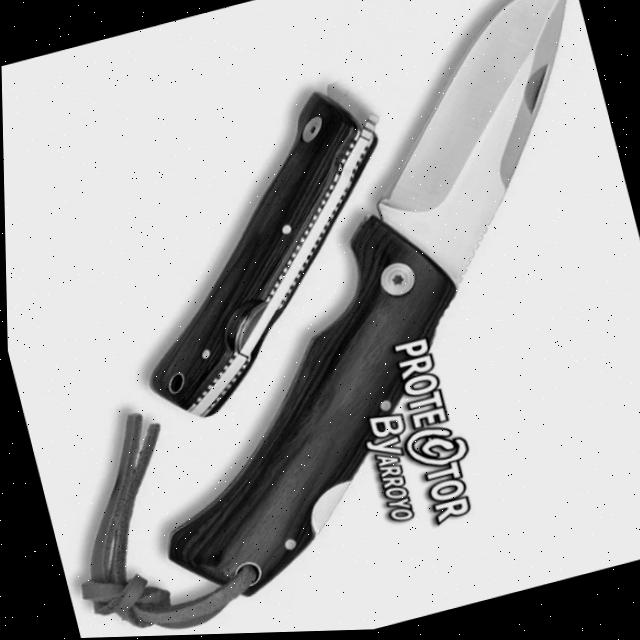knife: (50, 0, 640, 622), (79, 69, 444, 436)
